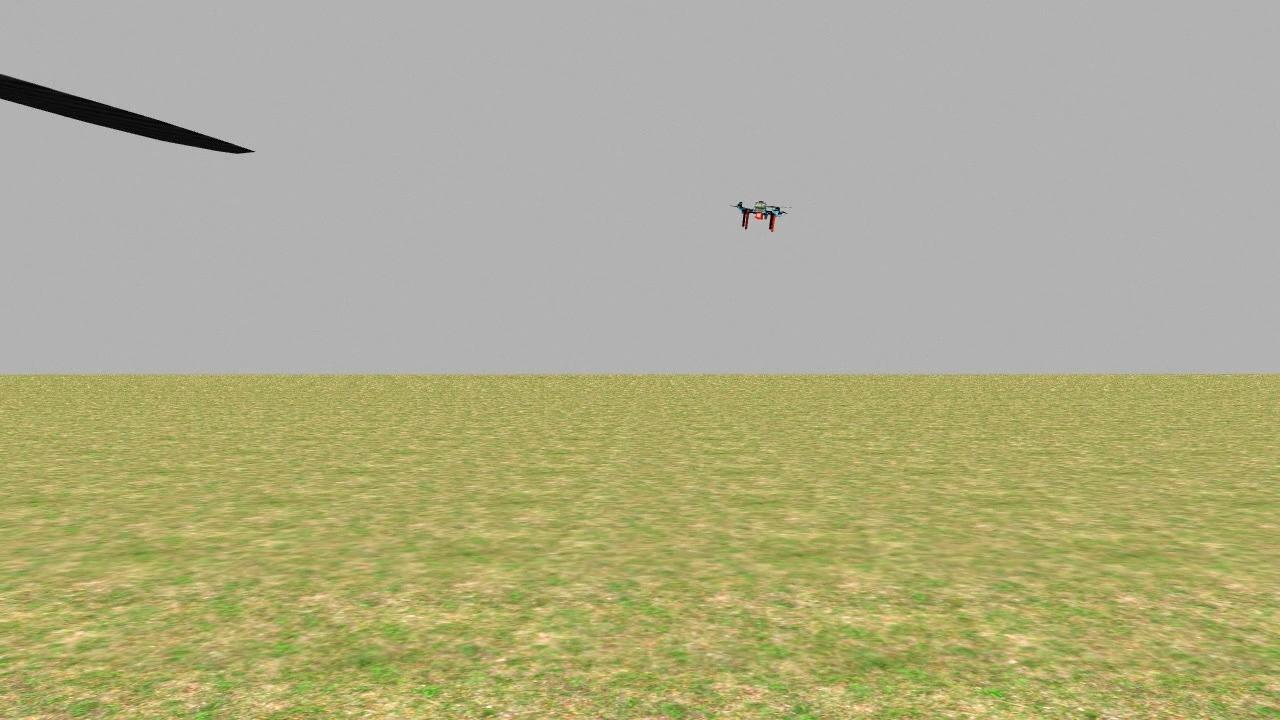UAV: (703, 184, 807, 252)
